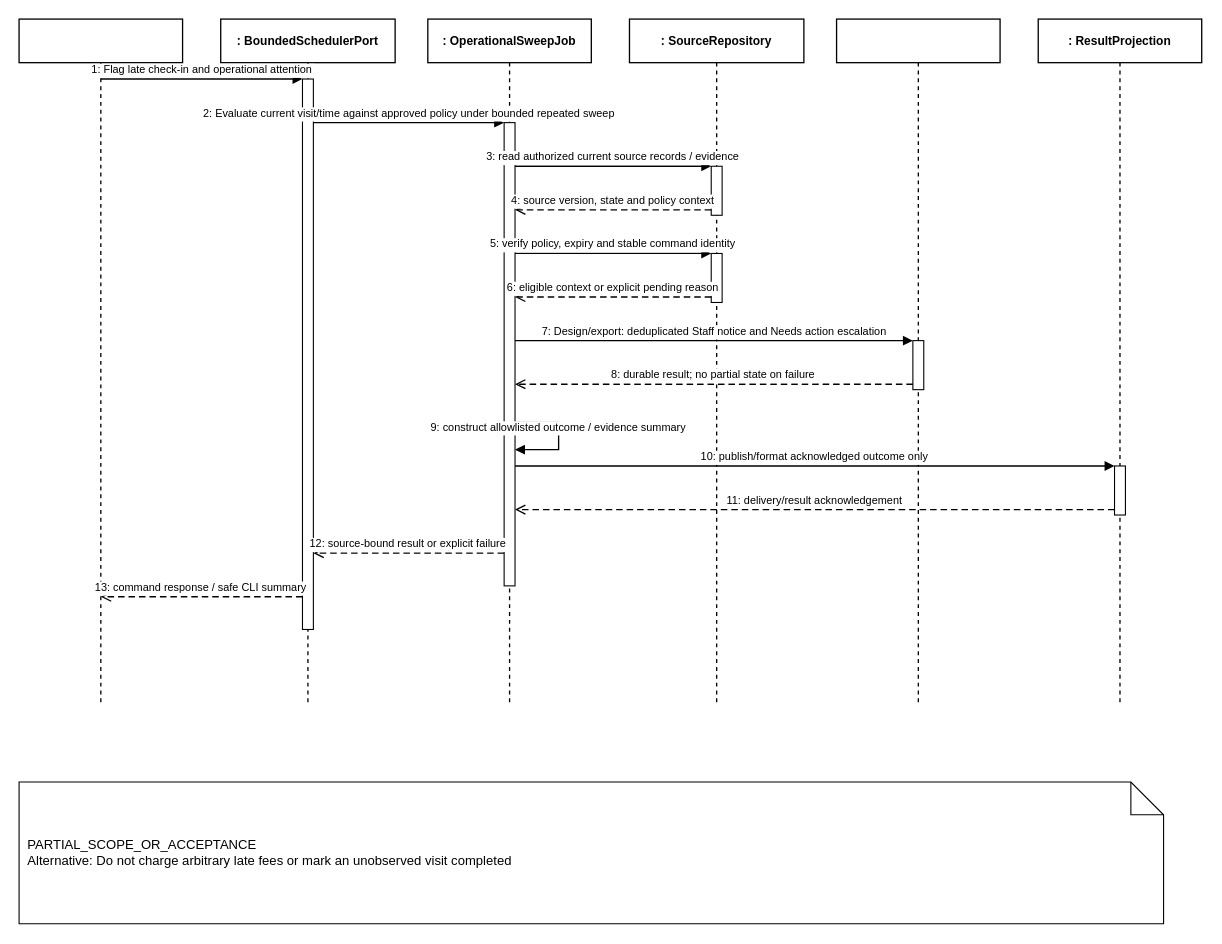
Some shapes in this 1222 by 944 pixel diagram are drawn without their labels. Each missing label, with the box of its shape:
: GuardedPersistence: (835, 18, 1000, 706)
Actor (Operational sweep): (18, 18, 183, 706)
